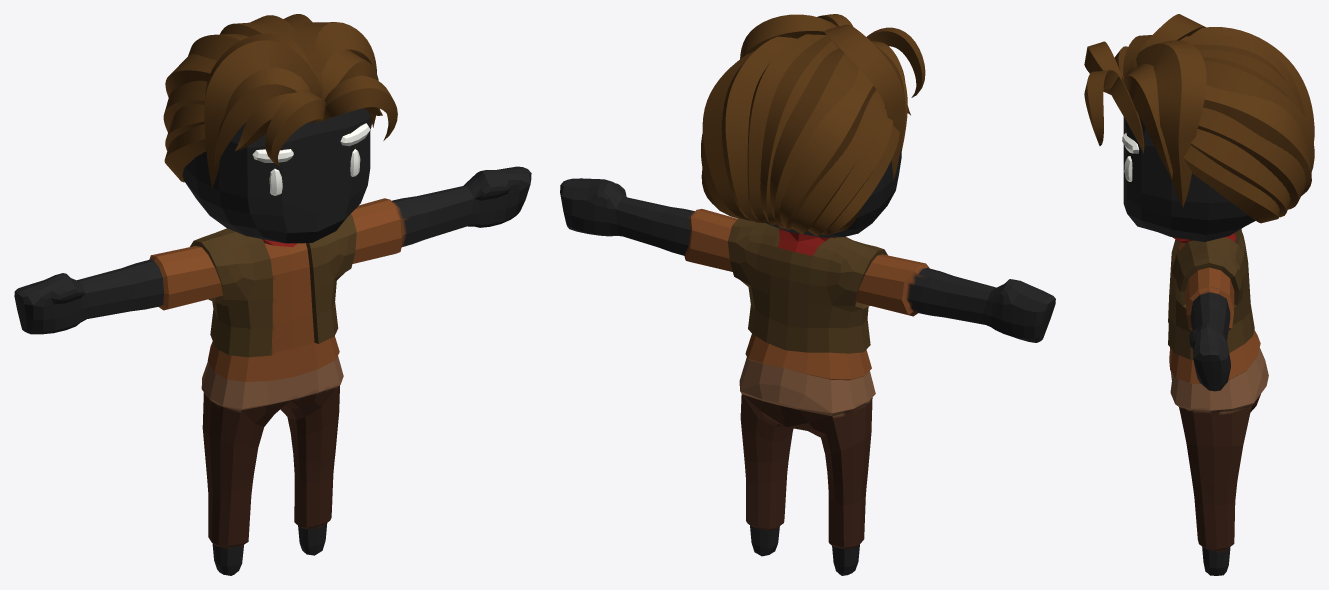
The model's file is Cowboy_Hair.fbx.
3 renders of one model, left to right at view 1: azimuth 30°, elevation 25°; view 2: azimuth 150°, elevation 25°; view 3: azimuth 270°, elevation 25°, orthographic. The views are drawn at different scales.
Parts seen in each view (by area): view 1: Body; view 2: Body; view 3: Body.
Boxes of the visible parts, box(x1,y1,x2,y2) form: Body: box(14, 14, 531, 575); Body: box(560, 14, 1055, 575); Body: box(1084, 14, 1314, 575).
Size of the model in its own units: 324 by 333 by 132.
Materials: 1 (1 with a texture image).
